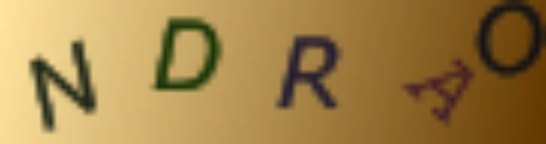A: (398, 62, 477, 127)
D: (147, 11, 222, 96)
N: (28, 35, 101, 135)
O: (475, 1, 546, 76)
R: (269, 32, 344, 114)
